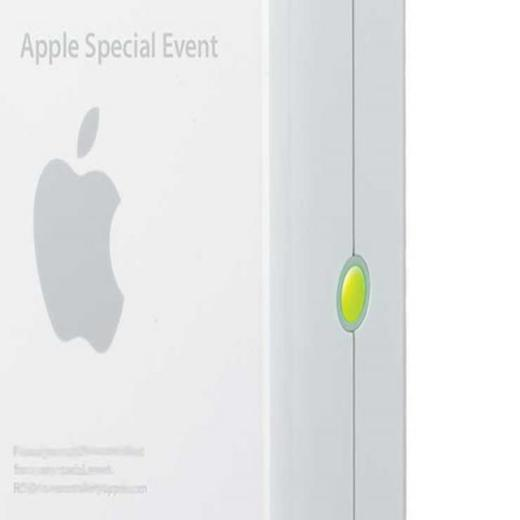Apple: (35, 130, 125, 350)
